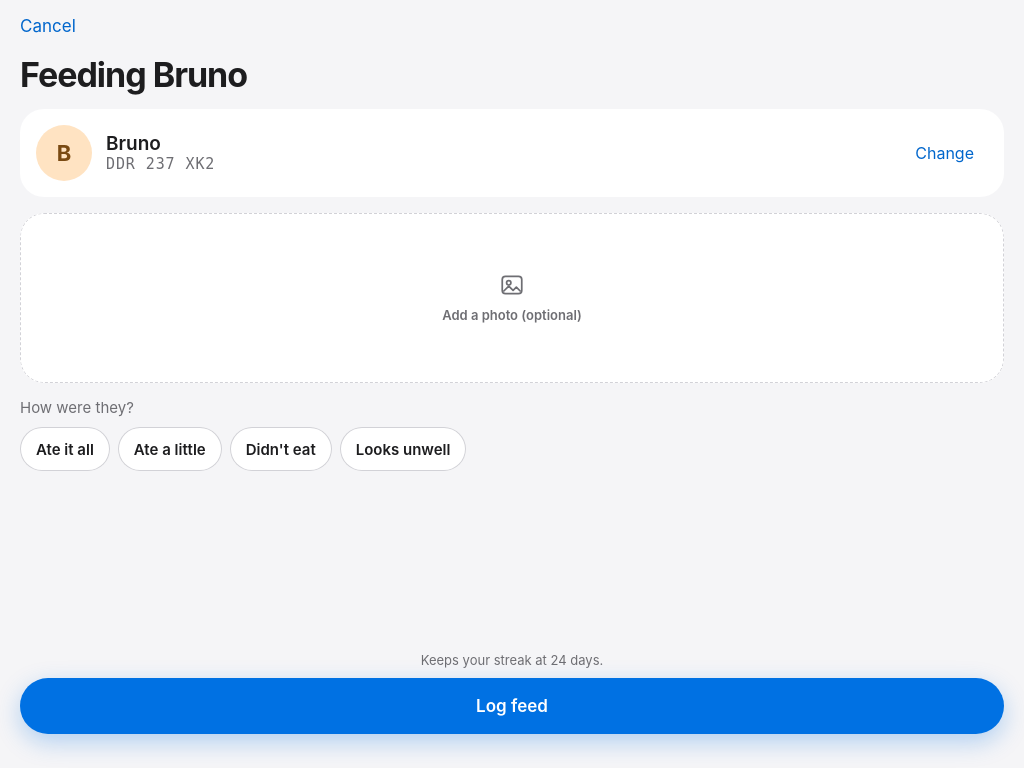
Test: Log a feed › posts the chosen outcome through the offline queue, with no photo needed
Click the button "Ate a little".
click(170, 449)  # box [118,427,222,471]
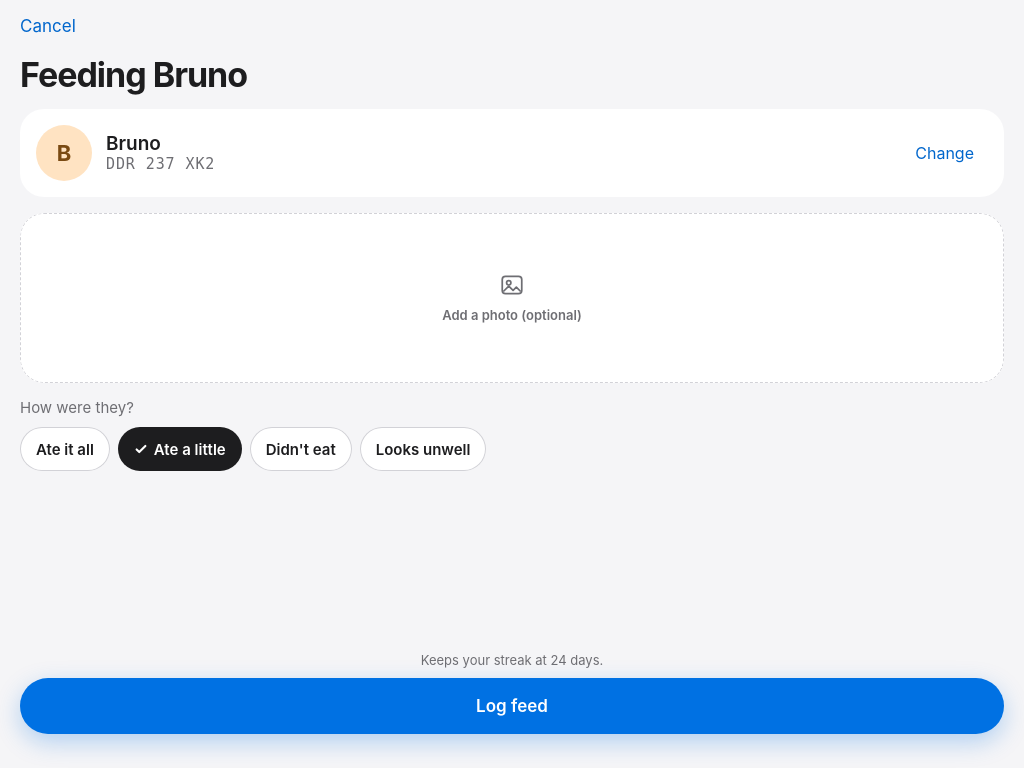
Check: the button "Ate a little" is pressed, box [118,427,242,471]
Click the button "Log feed".
click(512, 706)  # box [20,678,1004,734]
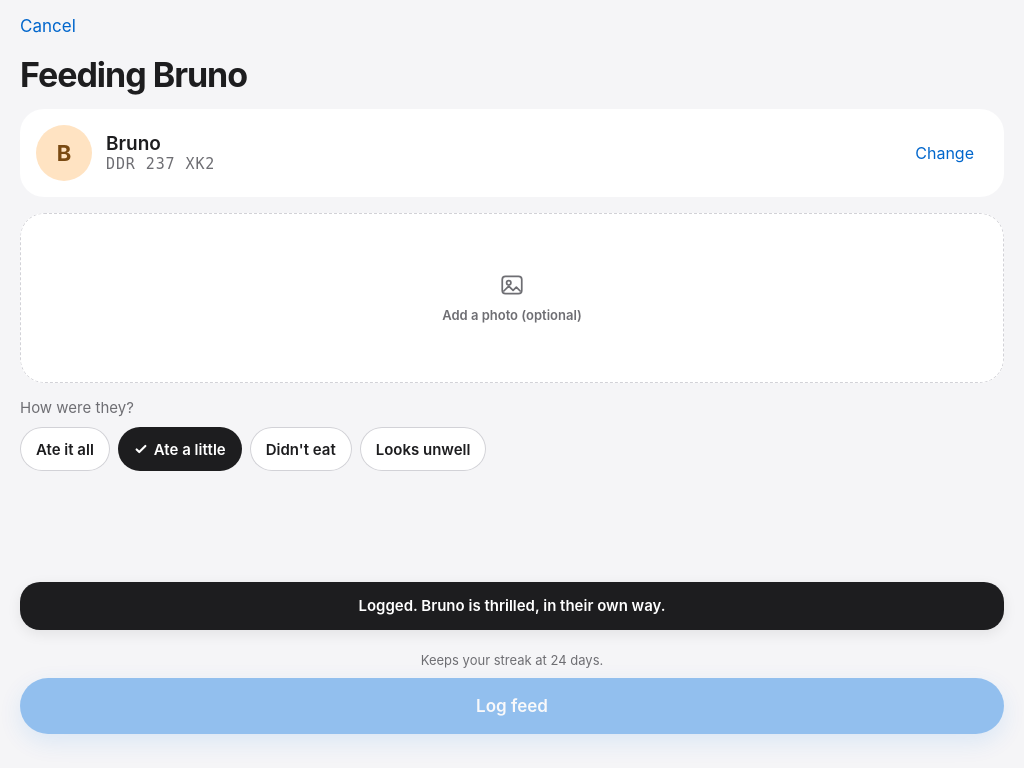
Check: the text "Logged. Bruno is thrilled, in their own way." is shown, box [20,582,1004,630]
